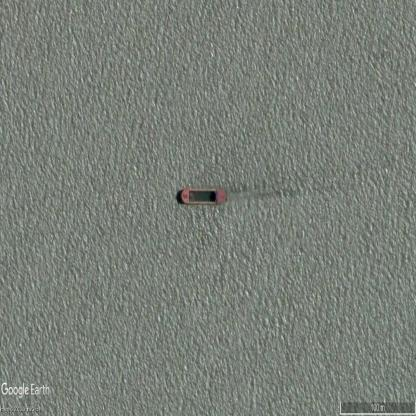ship: (179, 185, 226, 205)
